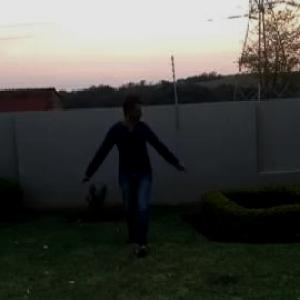land: (63, 89, 195, 275)
